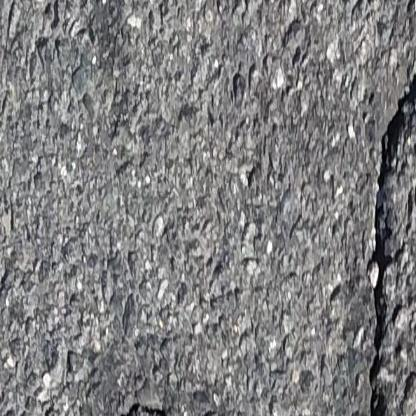Cracks: (366, 2, 416, 416), (105, 405, 221, 416)
